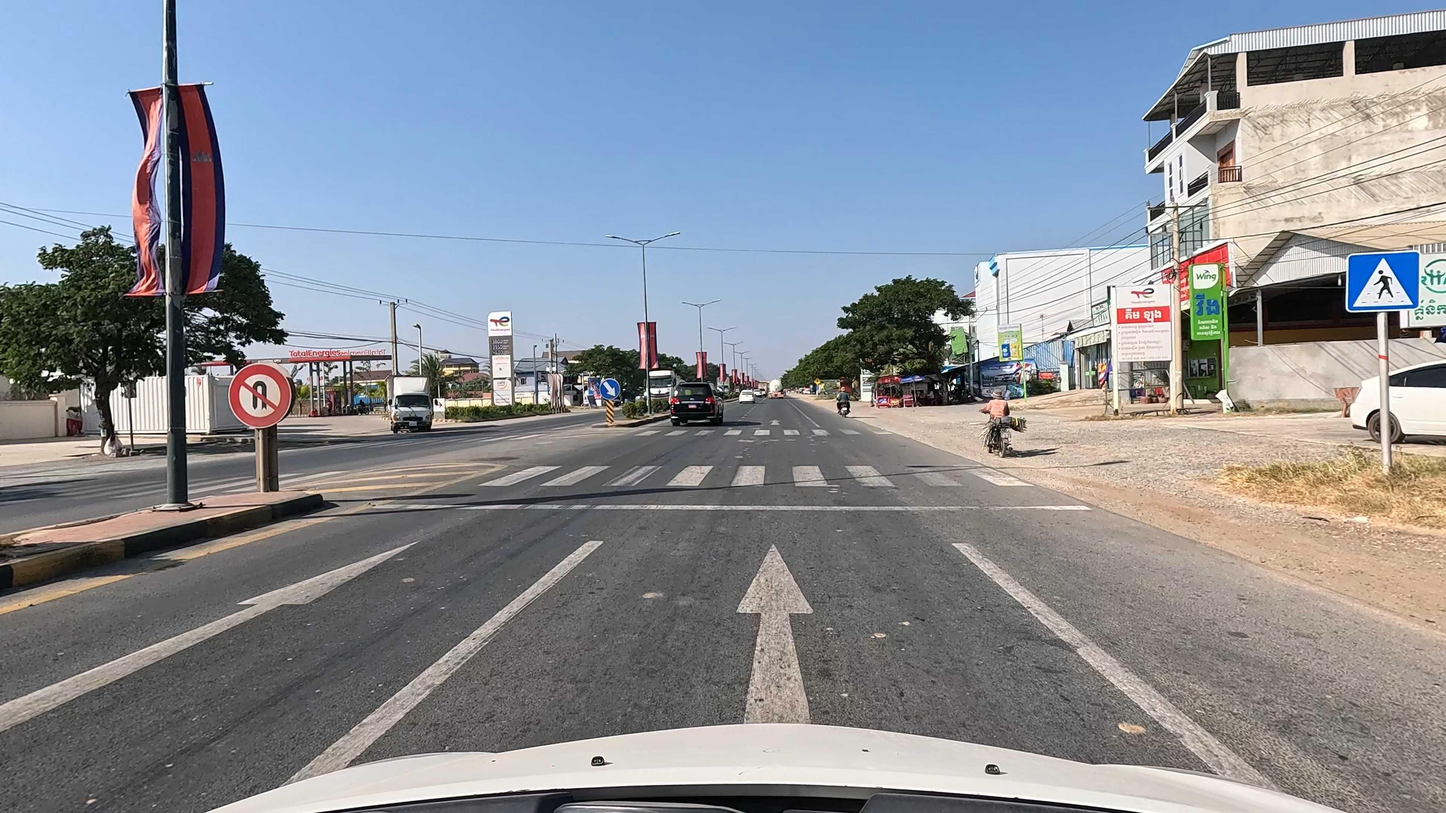keep_right: (598, 378, 622, 400)
no_u_turn: (227, 361, 297, 431)
pedestrian_crossing: (1344, 248, 1423, 313)
